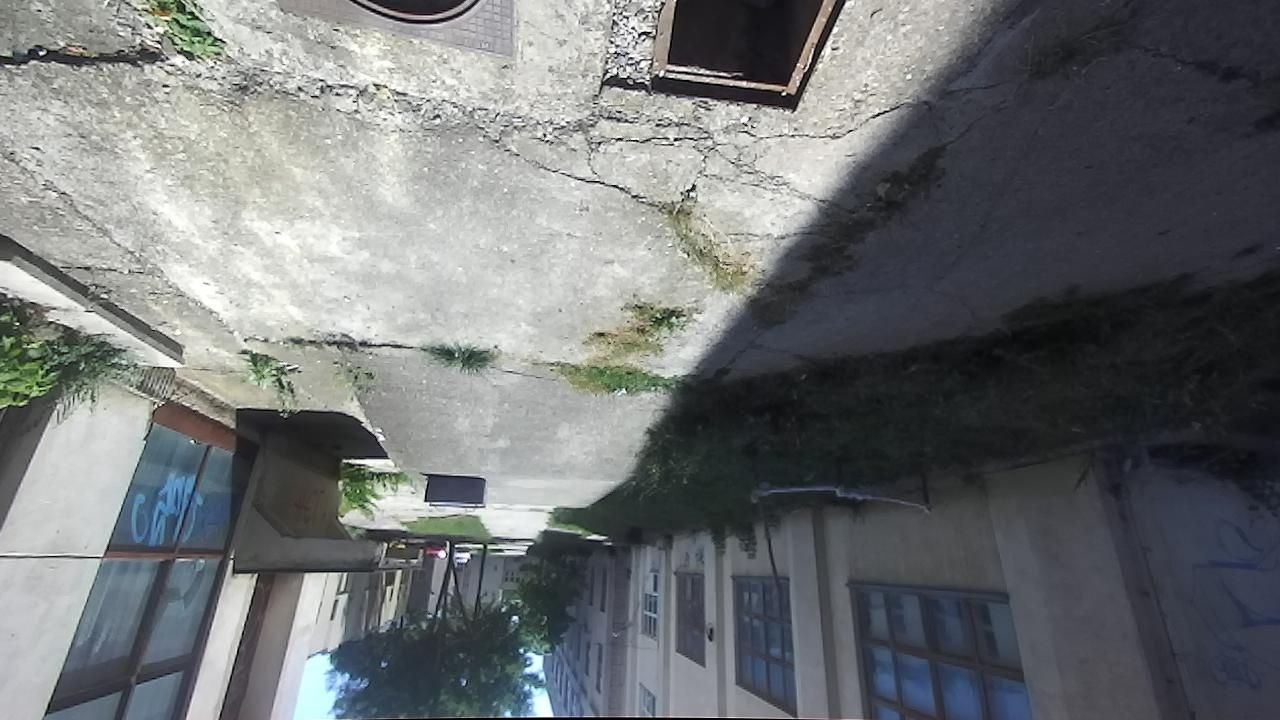drain: (603, 2, 847, 113), (345, 0, 478, 28)
